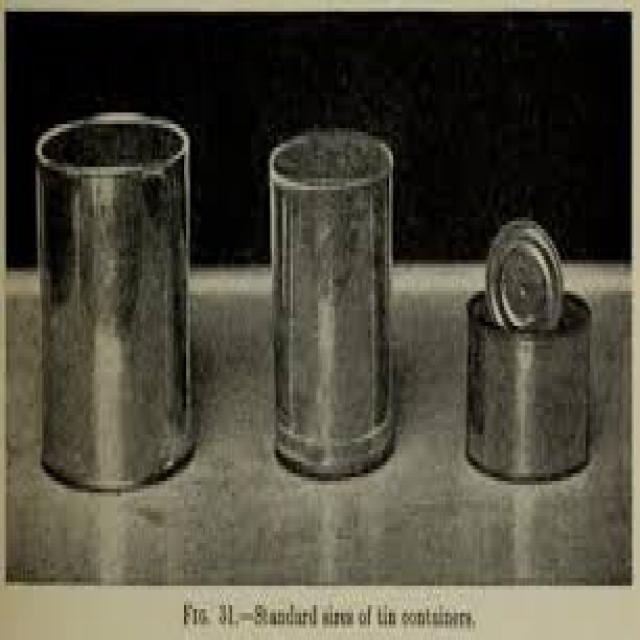metal: (32, 105, 193, 489), (266, 124, 391, 481), (464, 210, 592, 477)
